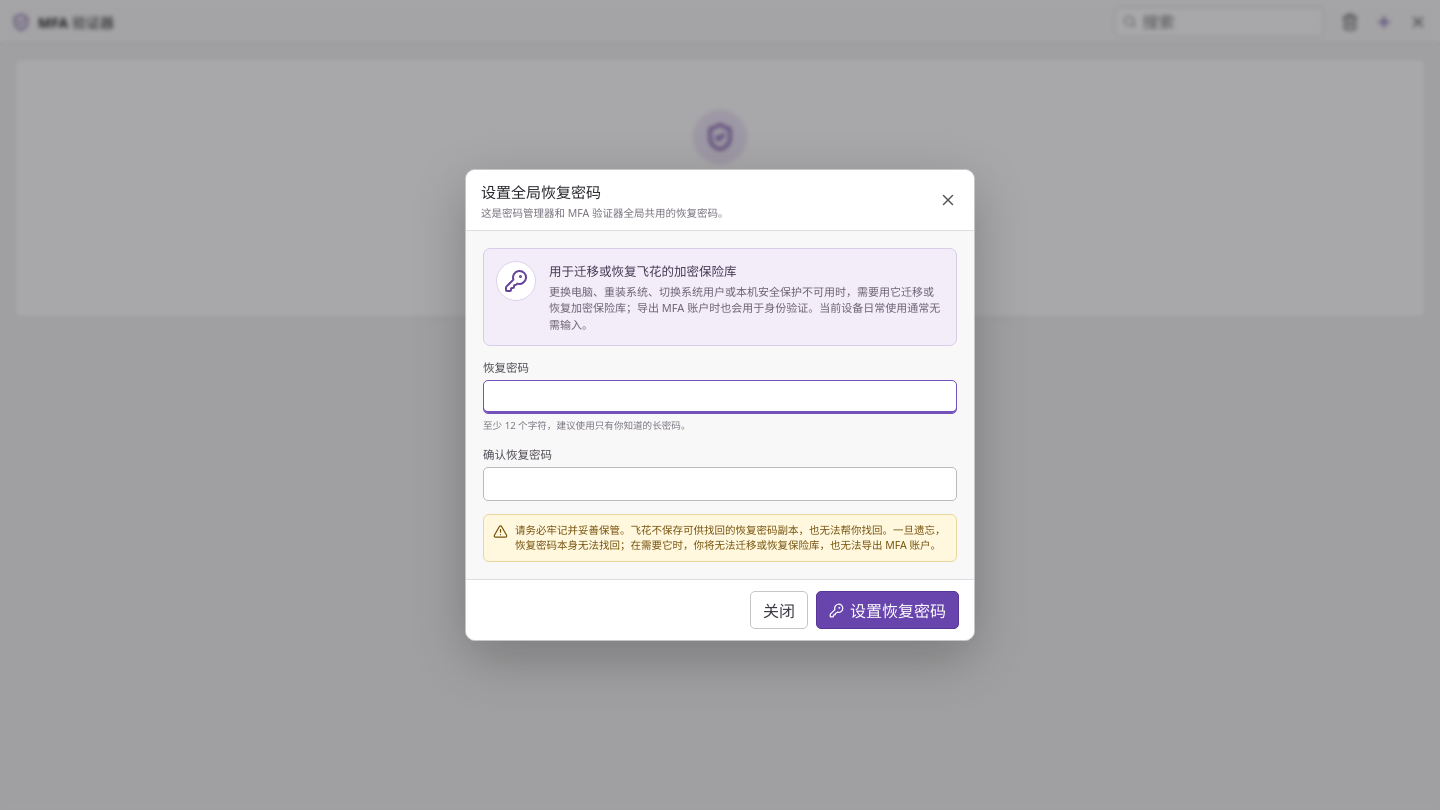
Test case: MfaTool › blocks first use until a recovery password is configured
The width and height of the screenshot is (1440, 810).
Check: the text "这是密码管理器和 MFA 验证器全局共用的恢复密码。" is shown, box top-left (481, 205), bottom-right (728, 220)
Check: the text "用于迁移或恢复飞花的加密保险库" is shown, box top-left (549, 263), bottom-right (736, 280)
Type "correct horse battery" into the password field labelled "恢复密码".
click(720, 397); type("correct horse battery")  # box top-left (483, 380), bottom-right (957, 414)
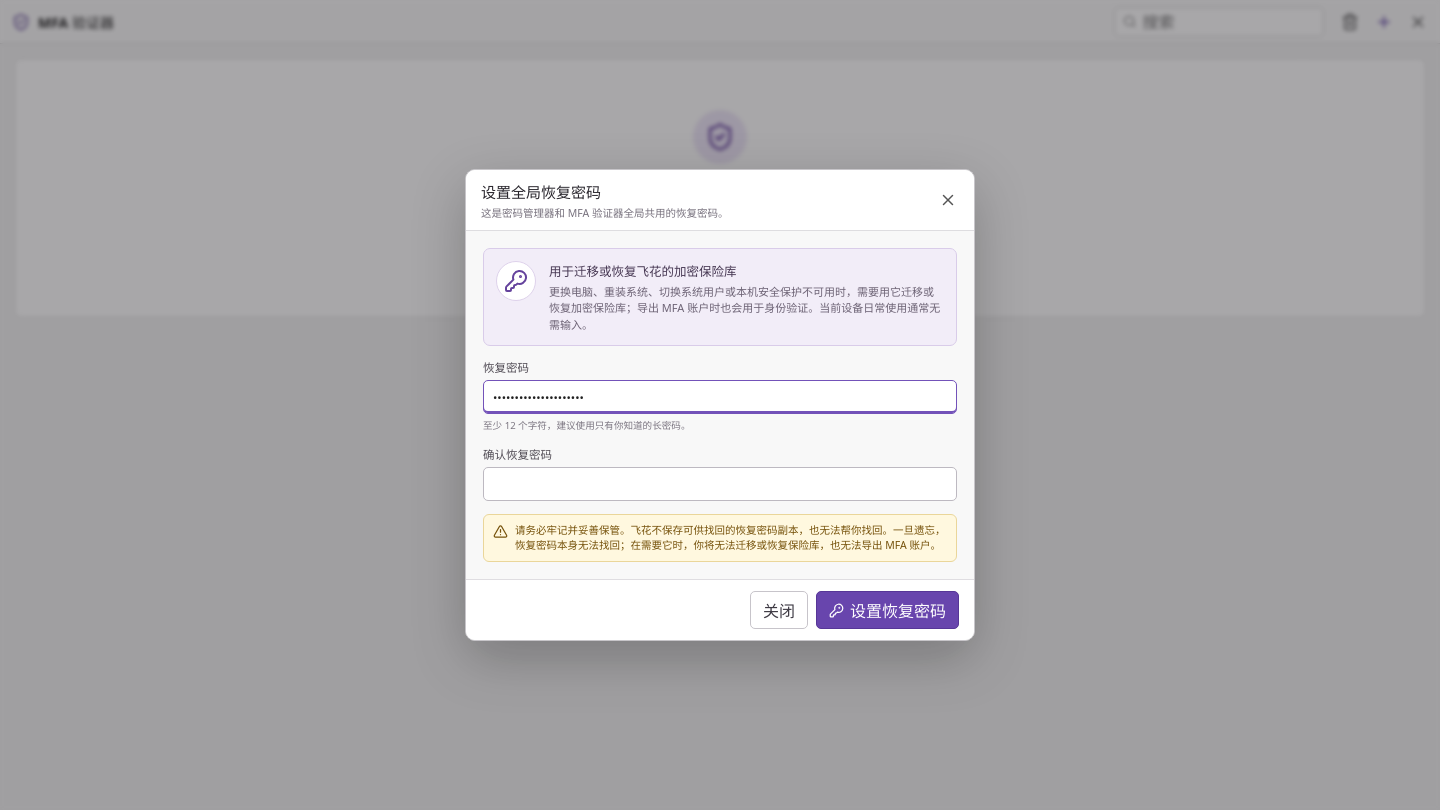
Type "correct horse battery" into the password field labelled "确认恢复密码".
click(720, 484); type("correct horse battery")  # box top-left (483, 467), bottom-right (957, 501)
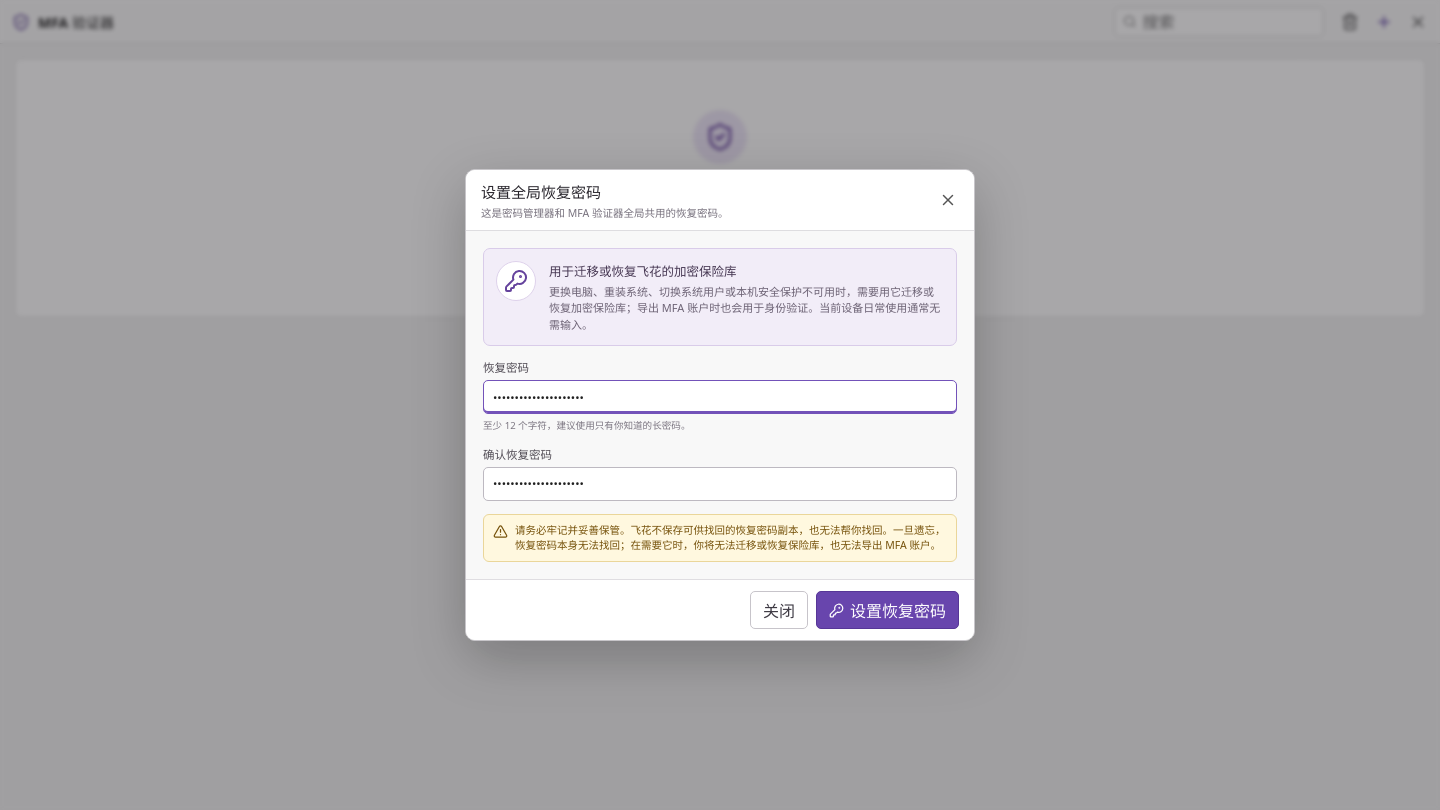
Click the button "设置恢复密码".
click(888, 610)  # box top-left (816, 591), bottom-right (959, 629)
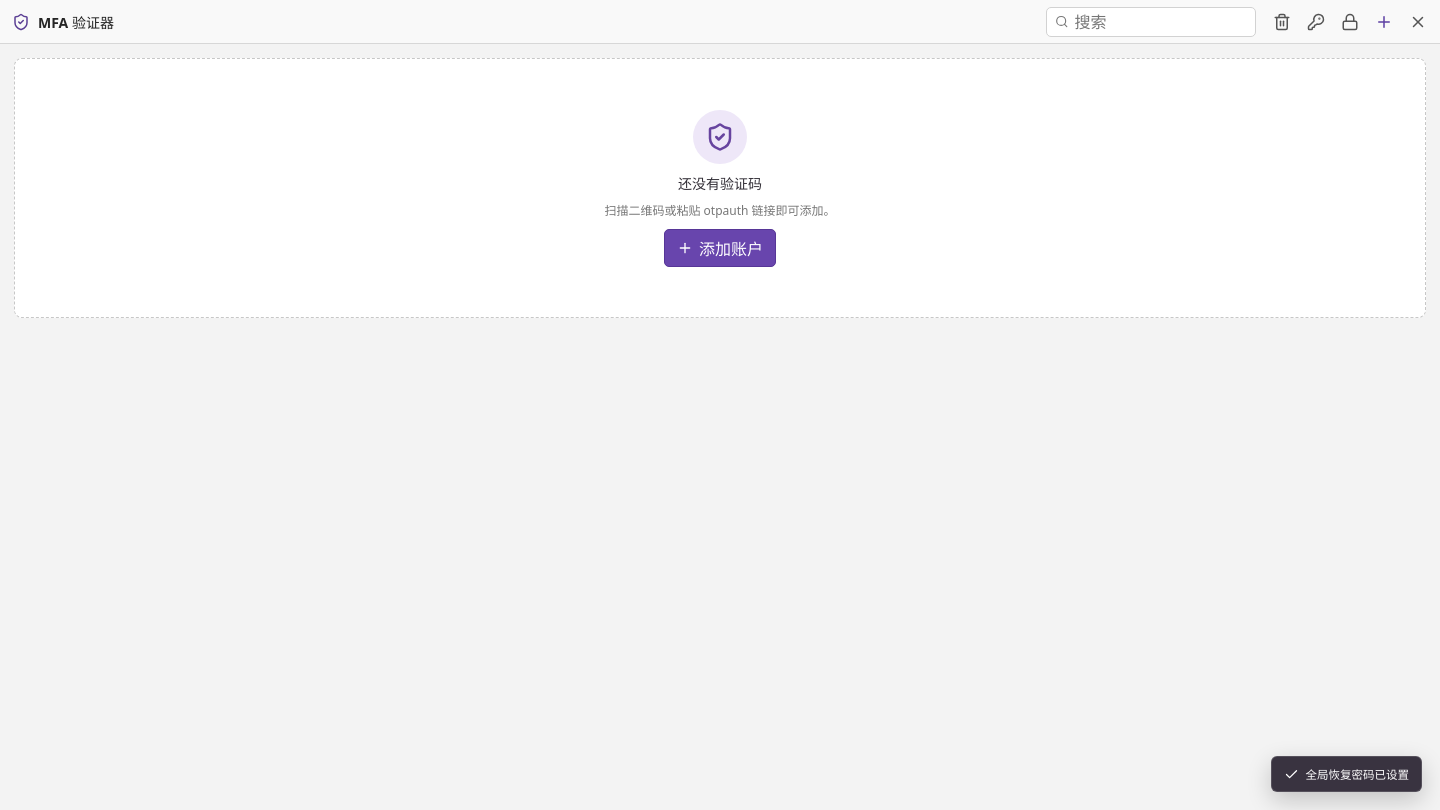
Check: the heading "设置全局恢复密码" is gone
